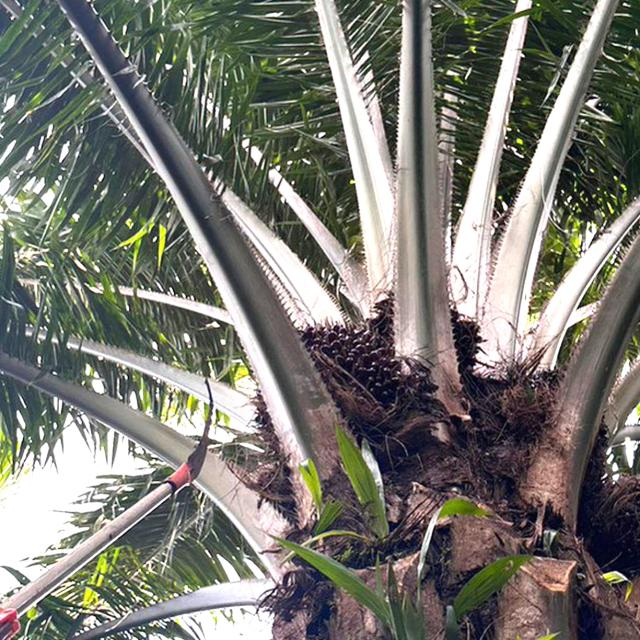unripe: (255, 309, 435, 481)
